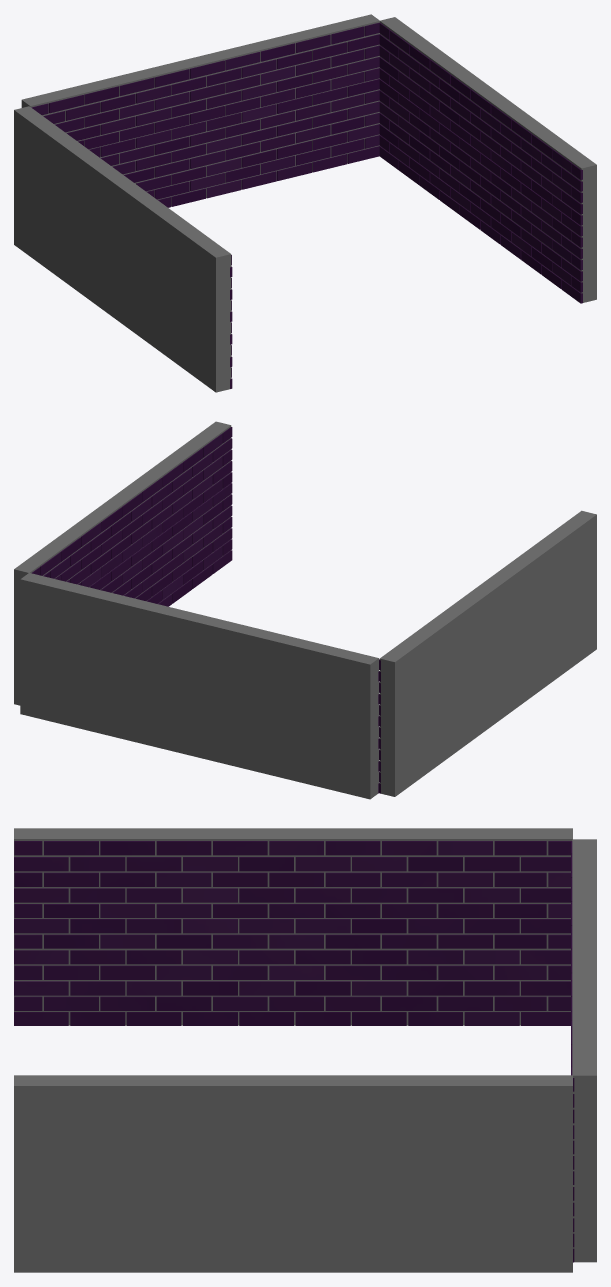
File: Walls.fbx
The picture shows the model from 3 angles, top to bottom: view 1: azimuth 30°, elevation 25°; view 2: azimuth 150°, elevation 25°; view 3: azimuth 270°, elevation 25°; orthographic projection. The views are drawn at different scales.
Parts seen in each view (by area): view 1: Box003; view 2: Box003; view 3: Box003.
Boxes of the visible parts, x1,y1,x2,y2 form: Box003: [14, 14, 596, 392]; Box003: [14, 421, 596, 799]; Box003: [14, 828, 596, 1272].
Bounding box in the file's own units: 478 × 458 × 162.
